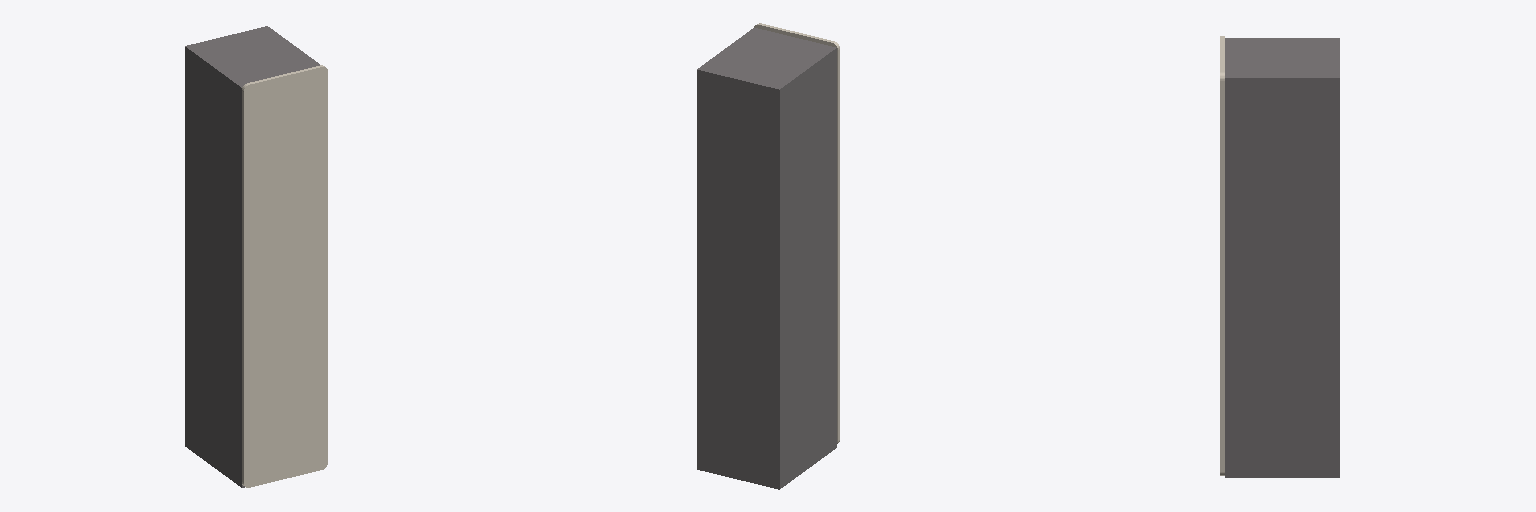
File: 2pir_szafa_1d.obj
3 renders of one model, left to right at view 1: azimuth 30°, elevation 25°; view 2: azimuth 150°, elevation 25°; view 3: azimuth 270°, elevation 25°, orthographic.
Visible parts, largest first — view 1: Rectangle10, Rectangle11; view 2: Rectangle11, Rectangle10; view 3: Rectangle11, Rectangle10.
Part boxes in pixels (x1,y1,x2,y2): Rectangle10: (242, 65, 327, 487); Rectangle11: (185, 26, 319, 487); Rectangle11: (697, 28, 836, 489); Rectangle10: (754, 23, 839, 443); Rectangle11: (1225, 38, 1339, 477); Rectangle10: (1220, 36, 1224, 475).
Size of the model in its own units: 47.49 by 217 by 58.04.